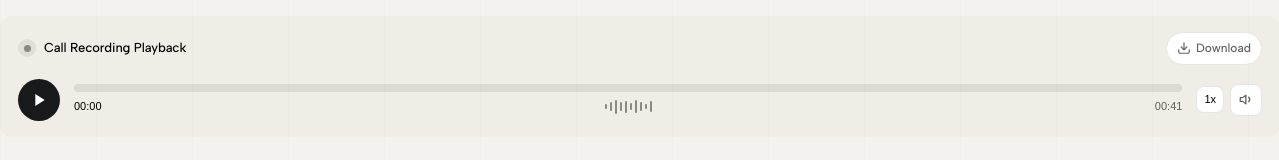
Test case: AudioPlayer › cycles playback rate when speed button is clicked
The width and height of the screenshot is (1279, 160).
Click the button titled "Toggle playback speed": (1210, 100) [1196, 86, 1224, 113]
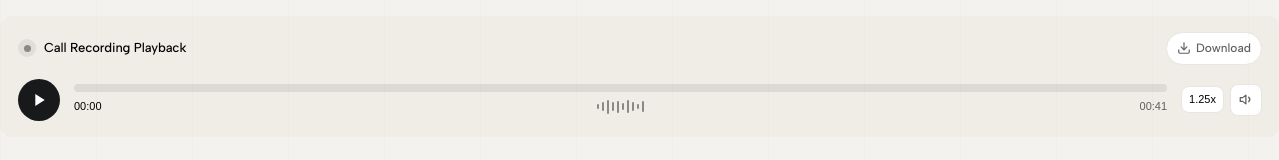
Result: the button titled "Toggle playback speed" reads "1.25x"
Click the button titled "Toggle playback speed": (1203, 100) [1181, 86, 1224, 113]
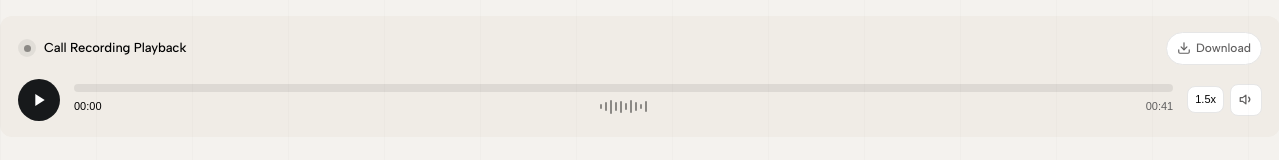
Result: the button titled "Toggle playback speed" reads "1.5x"
Click the button titled "Toggle playback speed": (1206, 100) [1187, 86, 1224, 113]
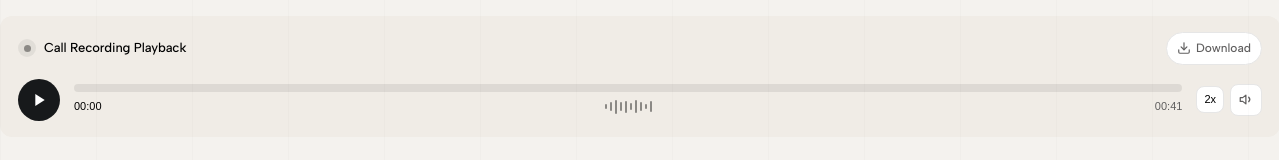
Result: the button titled "Toggle playback speed" reads "2x"
Click the button titled "Toggle playback speed": (1210, 100) [1196, 86, 1224, 113]
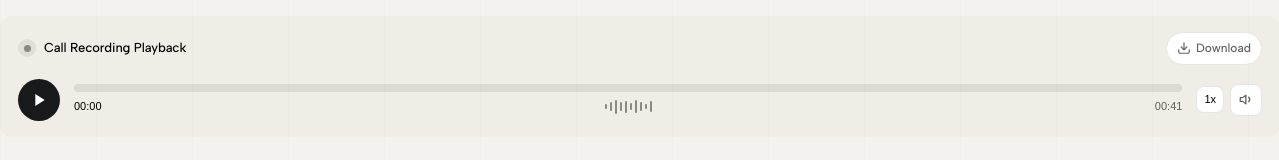
Result: the button titled "Toggle playback speed" reads "1x" at [1196, 86, 1224, 113]
